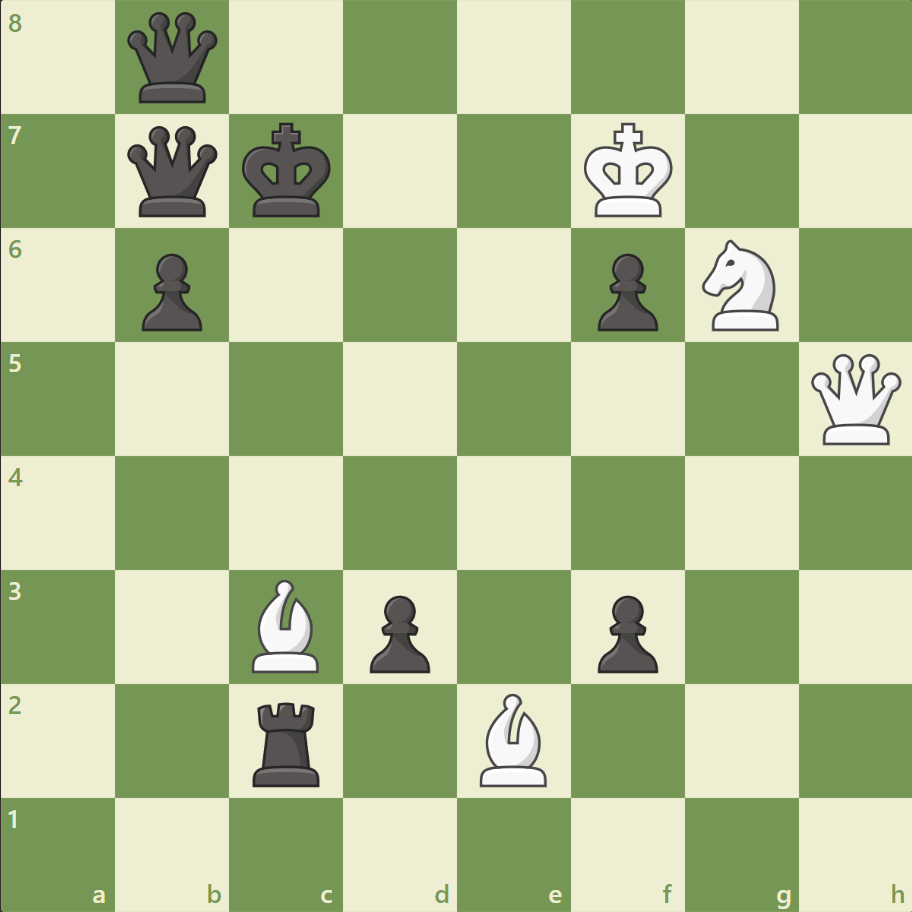B: (471, 687, 555, 790), (244, 574, 328, 676)
K: (579, 117, 679, 225)
N: (692, 234, 789, 337)
Q: (805, 349, 904, 449)
k: (238, 117, 338, 225)
p: (133, 246, 208, 337), (588, 246, 662, 337), (361, 586, 435, 677), (588, 586, 662, 677)
q: (124, 122, 223, 222), (124, 9, 223, 108)
r: (246, 693, 329, 790)
